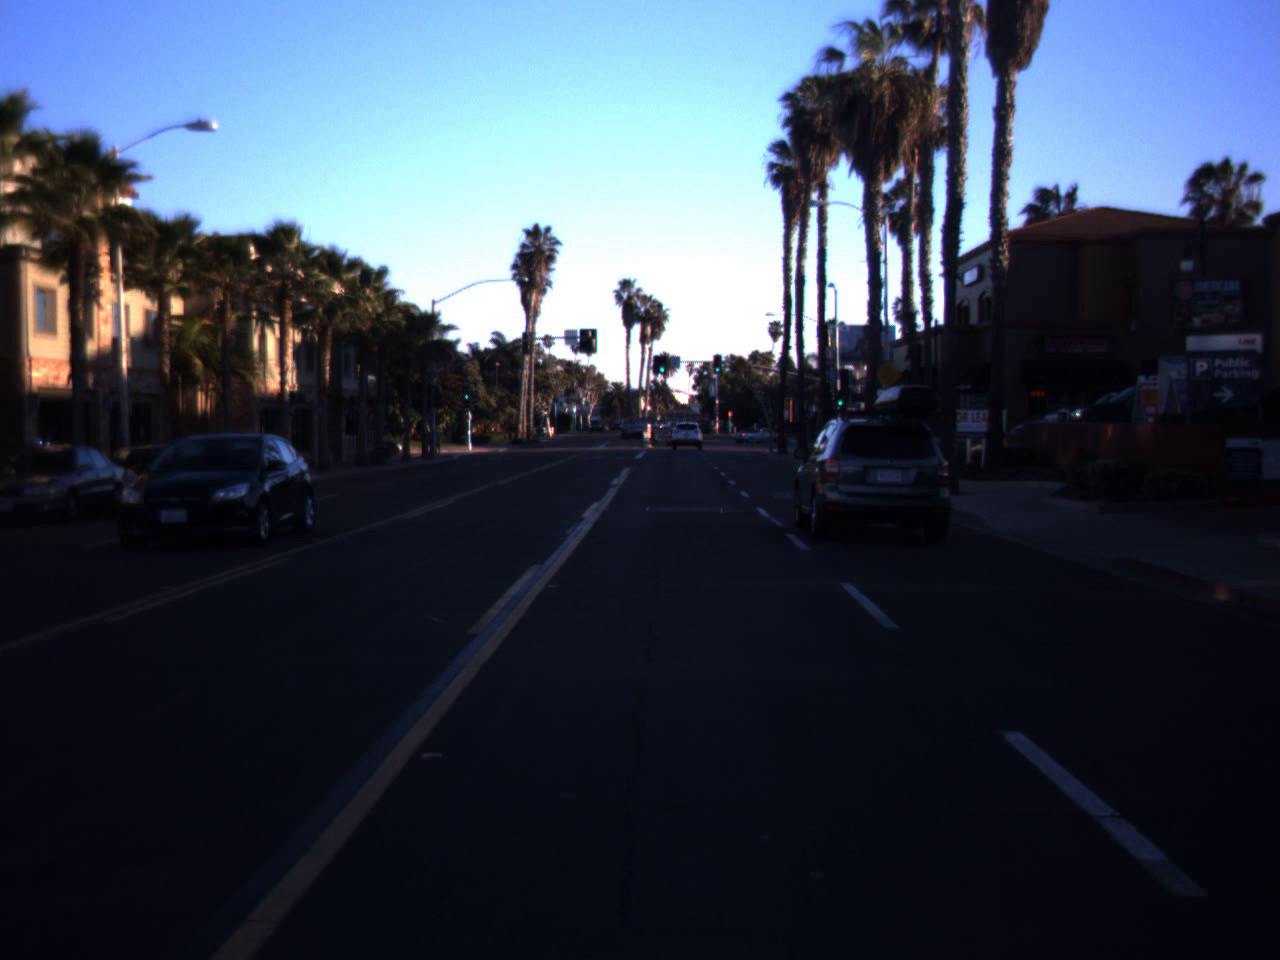go: (834, 387, 846, 407), (656, 354, 668, 374)
